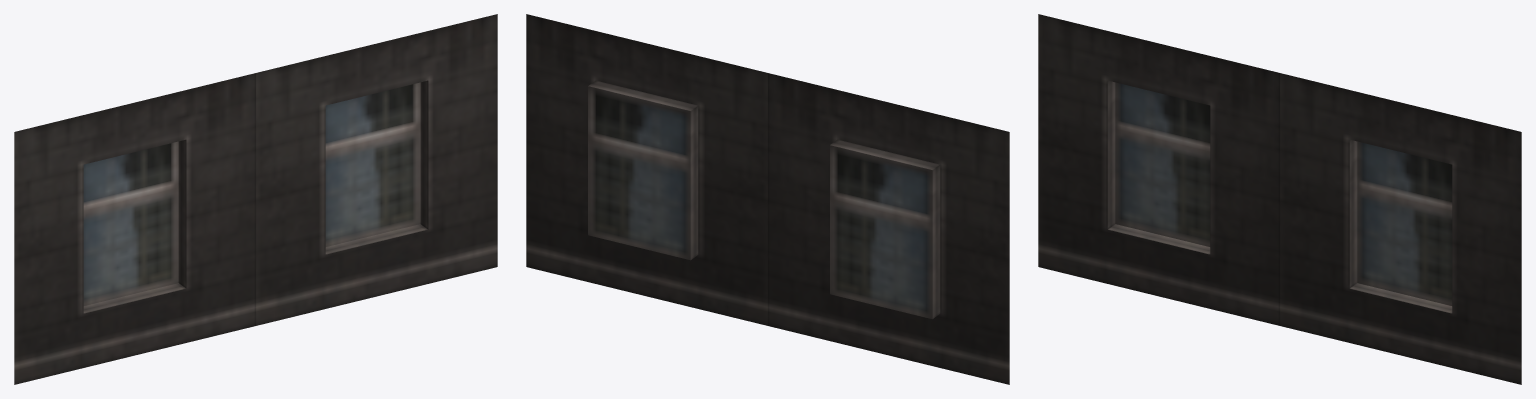
The model's file is B7_WindowA2x.FBX.
3 renders of one model, left to right at view 1: azimuth 30°, elevation 25°; view 2: azimuth 150°, elevation 25°; view 3: azimuth 330°, elevation 25°, orthographic.
Visible parts, largest first — view 1: B7_WindowA2x; view 2: B7_WindowA2x; view 3: B7_WindowA2x.
Boxes of the visible parts, left/top/right/bottom form: B7_WindowA2x: left=14, top=14, right=497, bottom=384; B7_WindowA2x: left=526, top=14, right=1009, bottom=384; B7_WindowA2x: left=1038, top=14, right=1521, bottom=384.
Size of the model in its own units: 8 by 4 by 0.2192.
